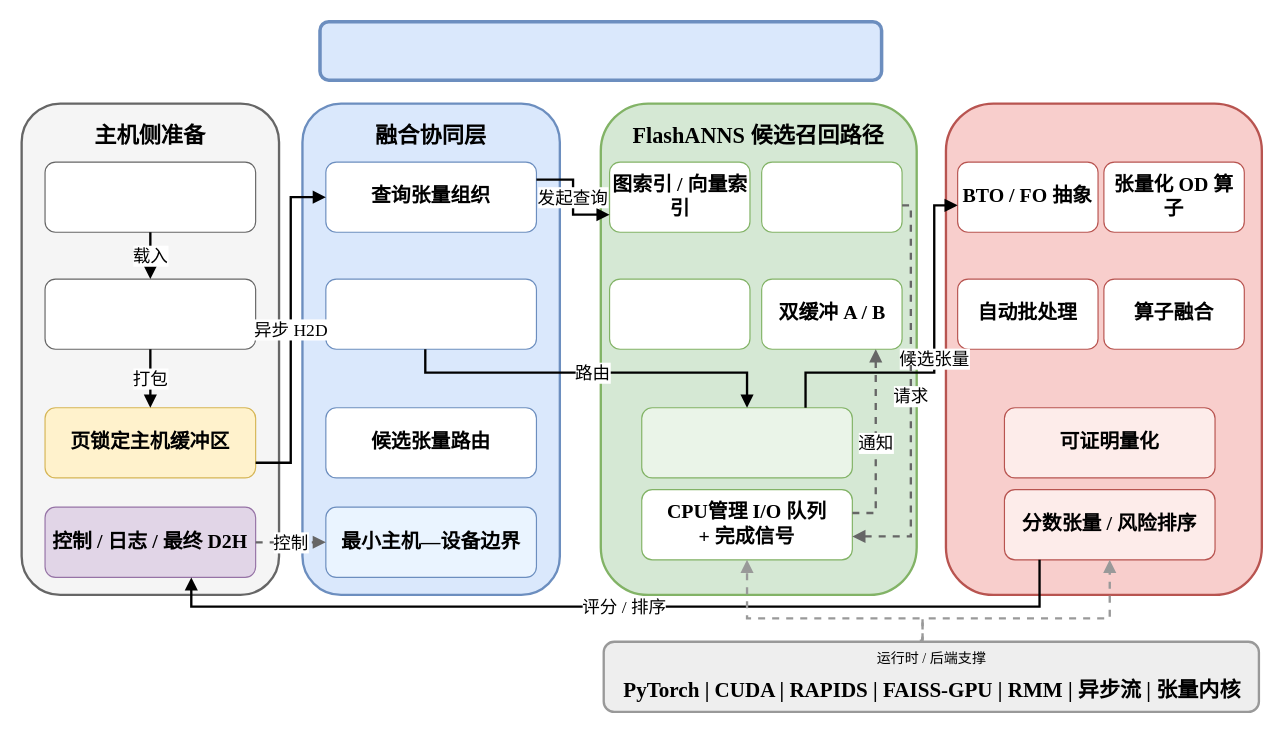
Some shapes in this 1282 by 734 pixel diagram are drawn without their labels. Each missing label, with the box of its shape:
PyTOD 张量化异常评分: (944, 102, 1262, 596)
PyTOD–FlashANNS 技术路线: (318, 19, 883, 81)
Warp级 SSD 并发访问: (608, 278, 750, 349)
依赖放松 异步流水线: (760, 161, 902, 232)
召回 → 重评分 → 排序: (325, 278, 536, 349)
有界候选张量: (641, 407, 852, 478)
模式对齐 / 特征打包: (44, 278, 256, 349)
金融业务记录 交易 / 行为 / 上下文: (44, 161, 256, 232)
